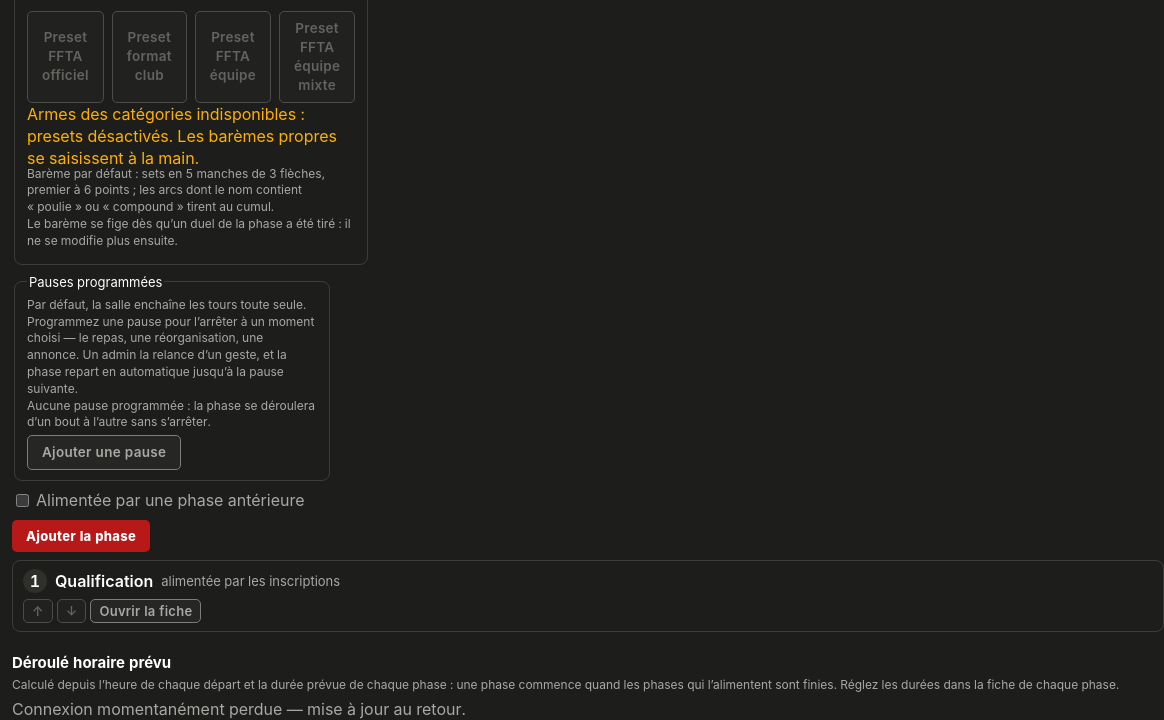
Scenario: le découpage en tours sur l’écran des phases › refuse la pause en nommant le geste, tant que la qualification n’est pas découpée
This screenshot has width=1164, height=720.
(page scrolled)
Click the button "Ouvrir la fiche".
click(146, 611)  # box x1=90 y1=599 x2=201 y2=623
(page scrolled)
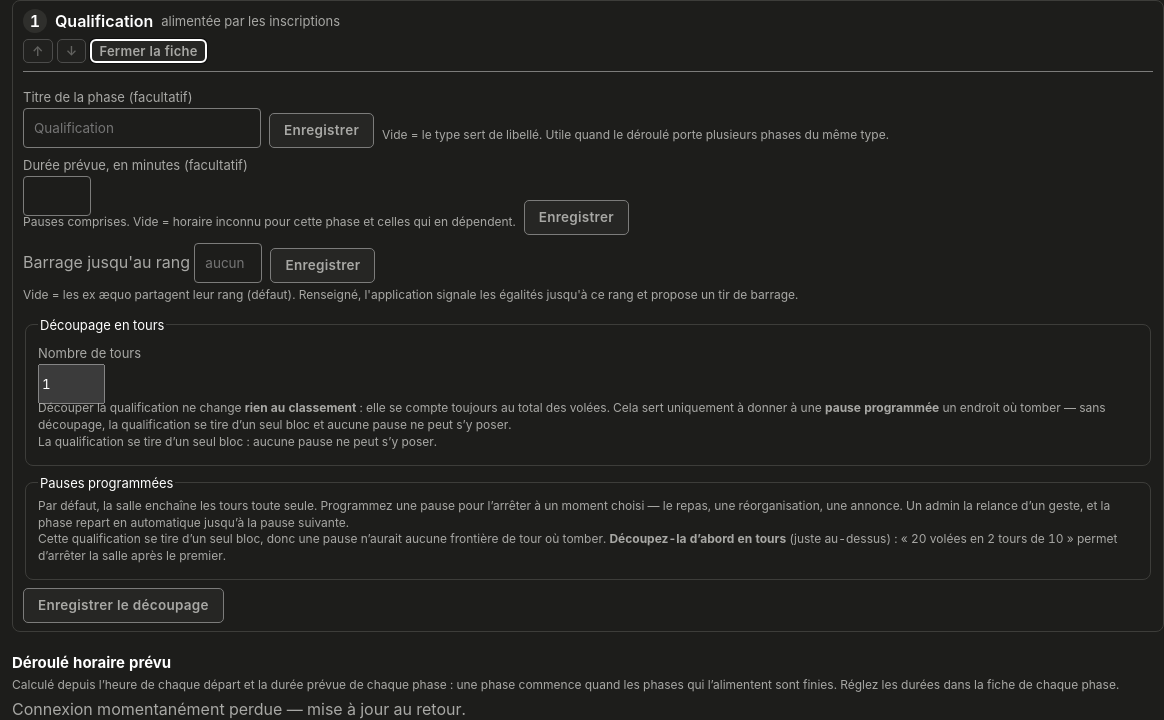
Now the text "Découpez-la d’abord en tours" is shown, box x1=609 y1=531 x2=786 y2=546
